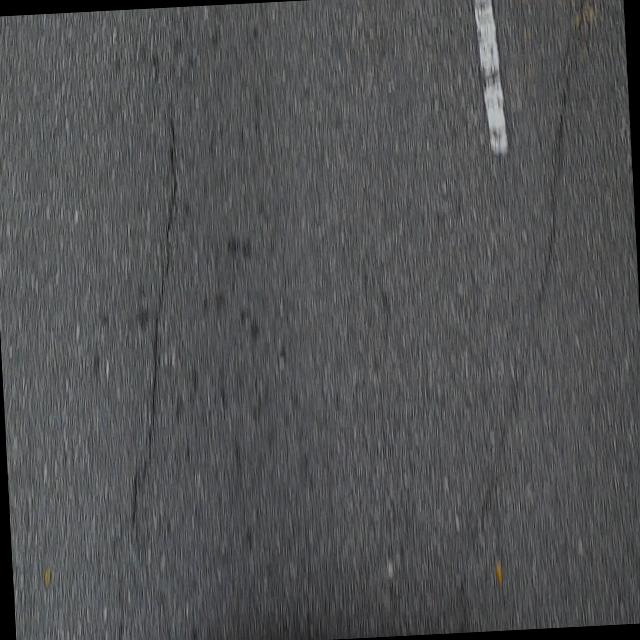Retak-Memanjang: (127, 95, 182, 534), (533, 0, 591, 323)
